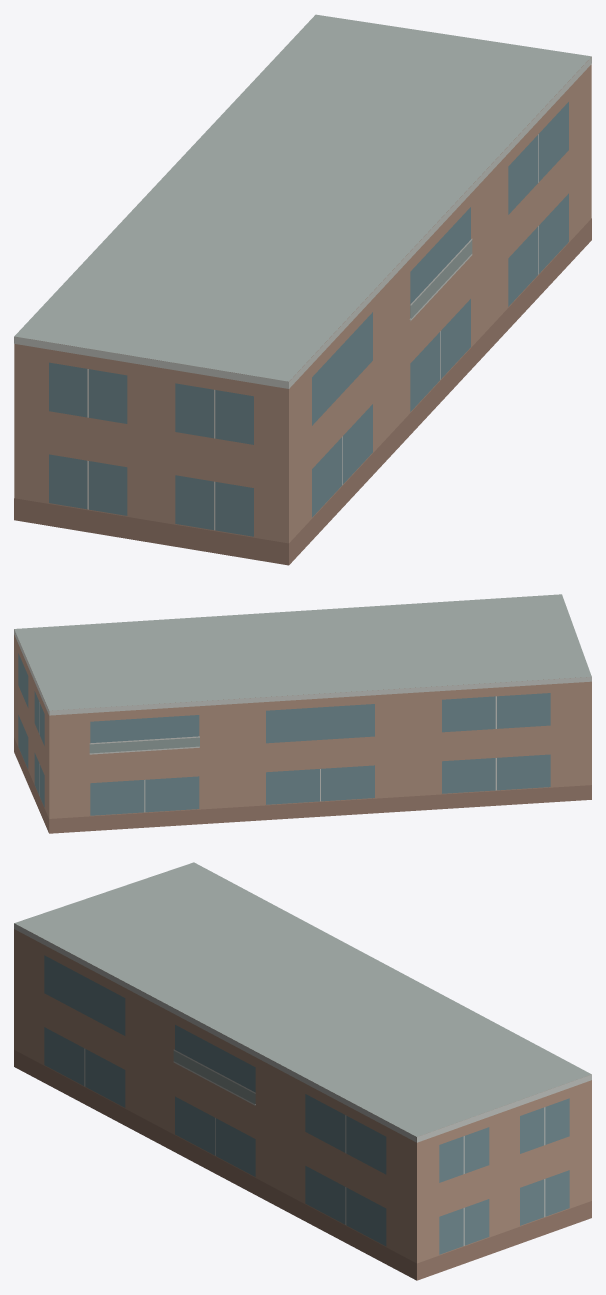
Rendered from survey-upis-32718512.glb.
3 renders of one model, top to bottom at view 1: azimuth 30°, elevation 25°; view 2: azimuth 150°, elevation 25°; view 3: azimuth 270°, elevation 25°, orthographic. The views are drawn at different scales.
Parts seen in each view (by area): view 1: survey-upis-32718512.tmp; view 2: survey-upis-32718512.tmp; view 3: survey-upis-32718512.tmp.
Boxes of the visible parts, x1,y1,x2,y2 form: survey-upis-32718512.tmp: (14,14,591,565); survey-upis-32718512.tmp: (14,594,591,833); survey-upis-32718512.tmp: (14,862,591,1280).
Bounding box in the file's own units: 25.04 × 6.1 × 22.25.
